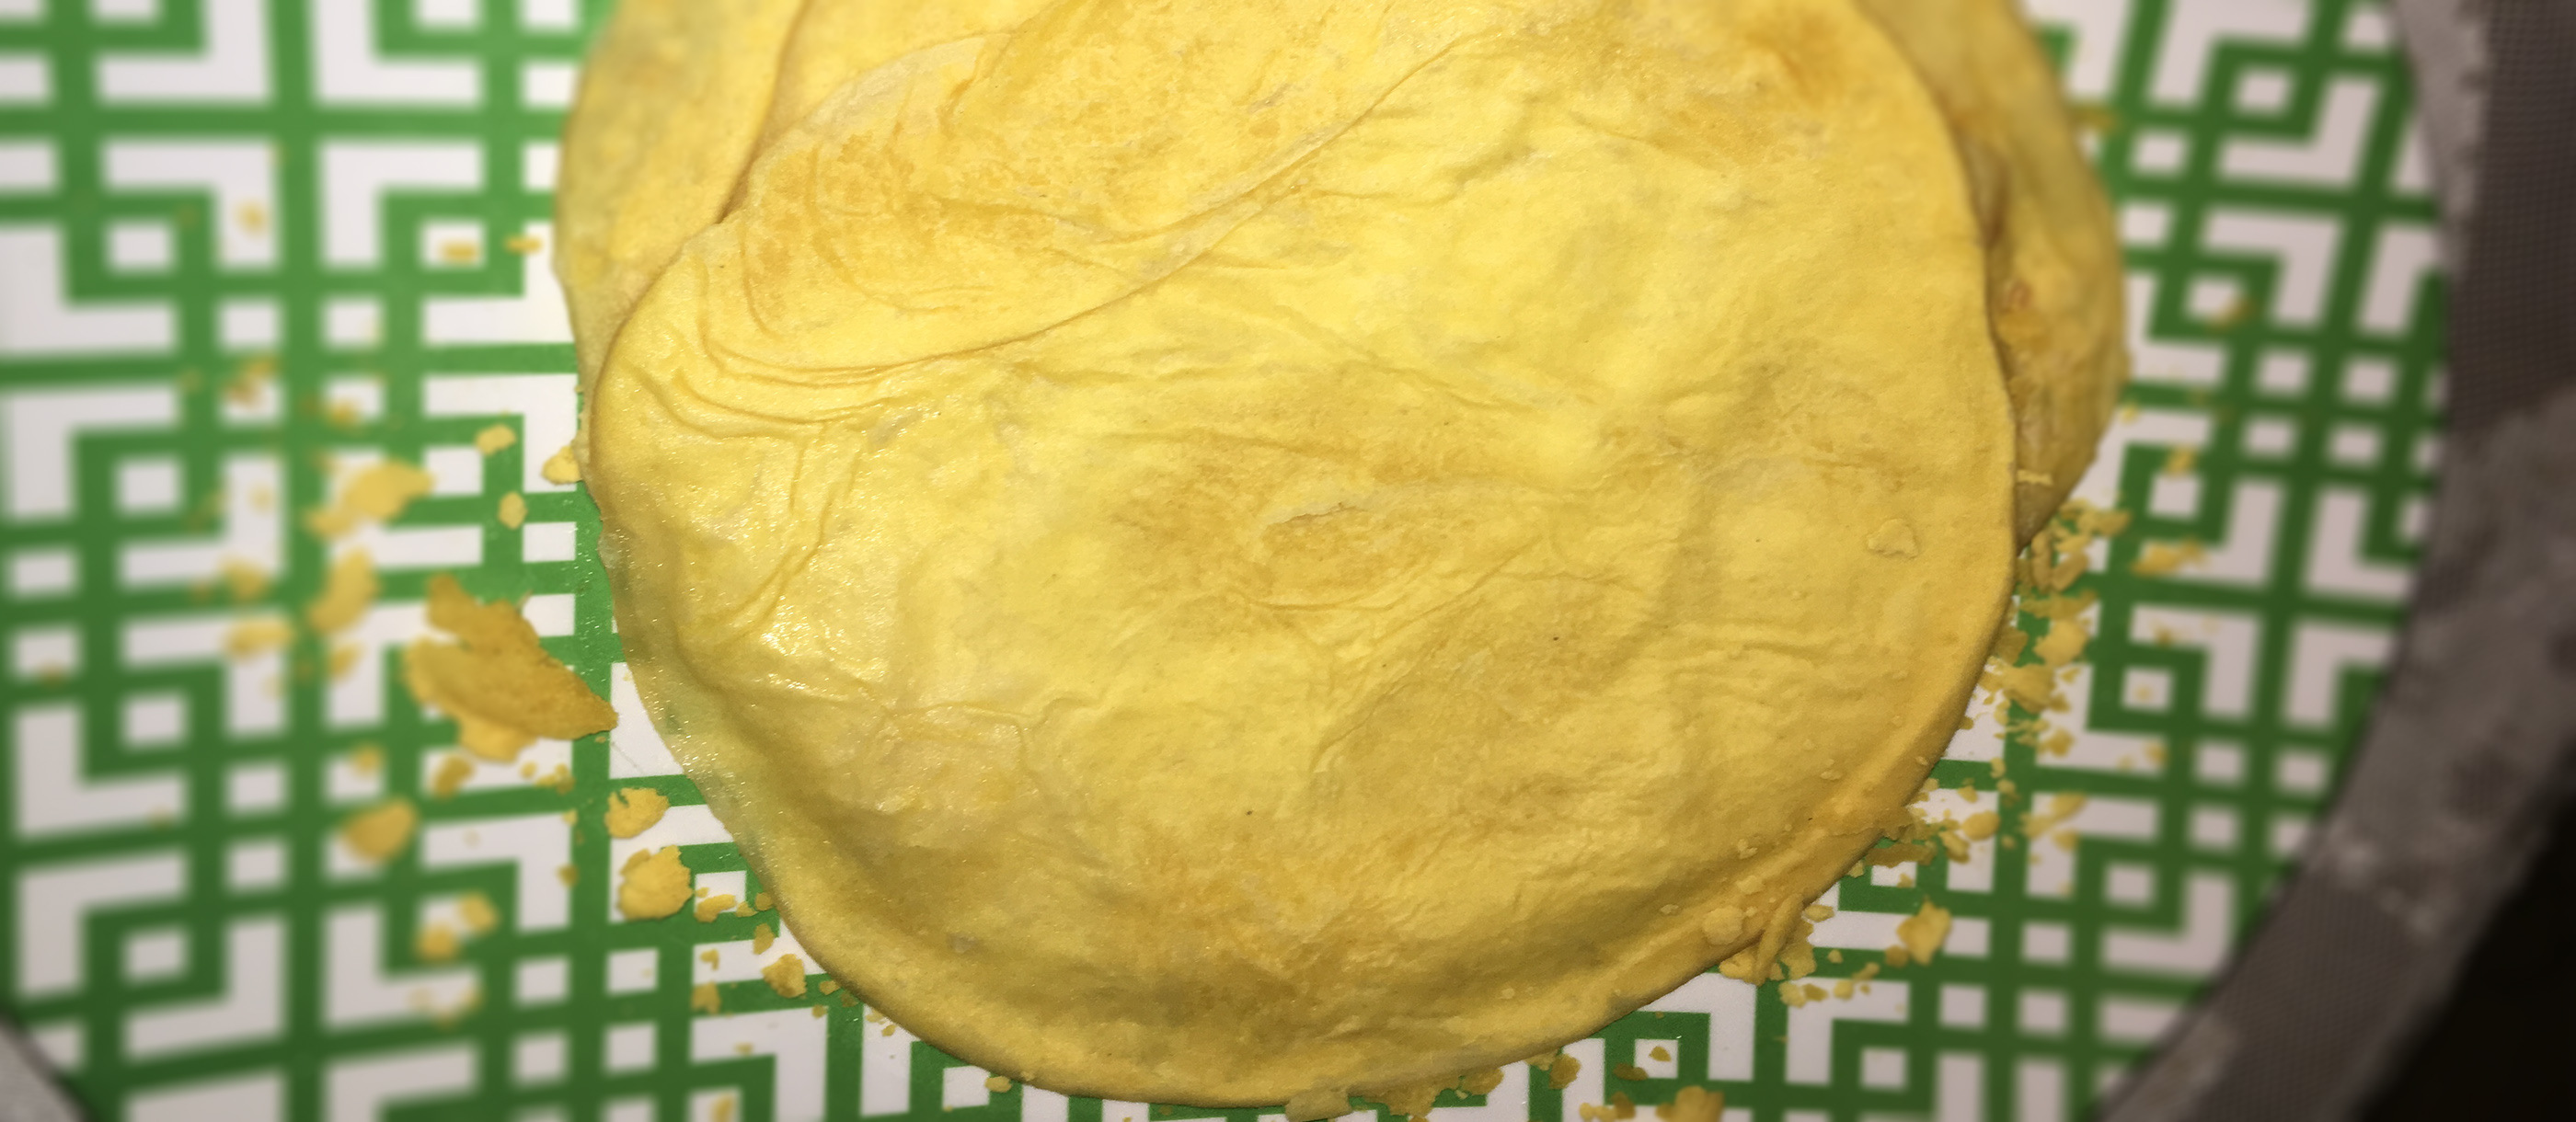Farata: (398, 13, 2067, 1096)
